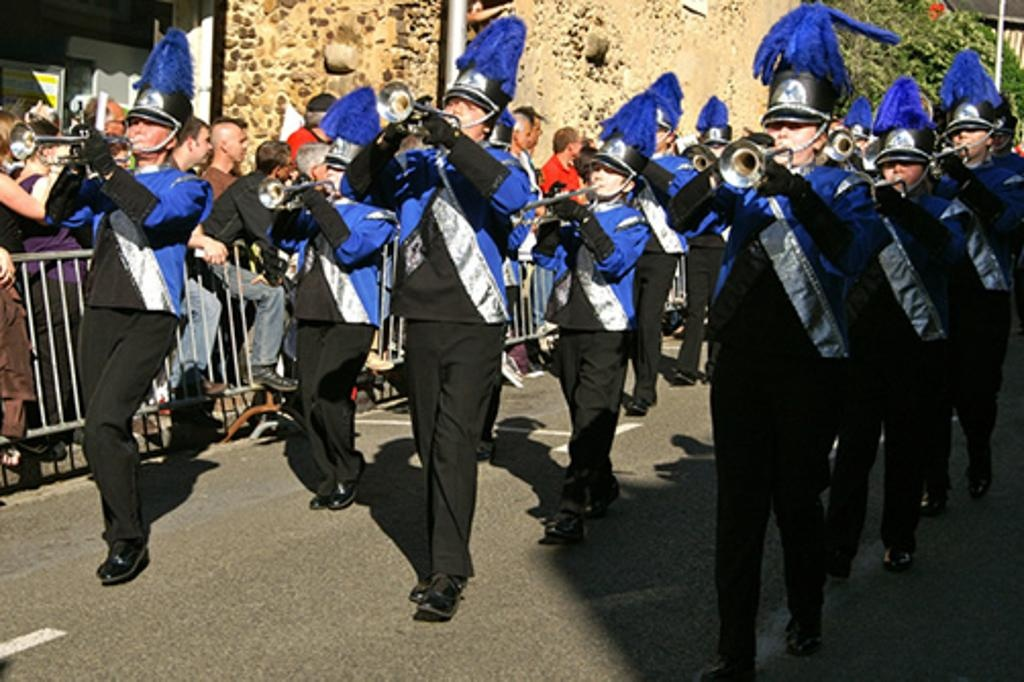human_face: (766, 118, 814, 164), (442, 98, 486, 140), (882, 152, 922, 192), (126, 113, 164, 153), (589, 158, 623, 196), (951, 124, 985, 158), (224, 124, 248, 162), (325, 160, 351, 191), (192, 126, 212, 164), (524, 116, 542, 146), (512, 120, 528, 152), (989, 128, 1009, 147), (568, 134, 582, 156), (277, 156, 289, 180), (42, 142, 56, 162), (34, 141, 46, 159)
